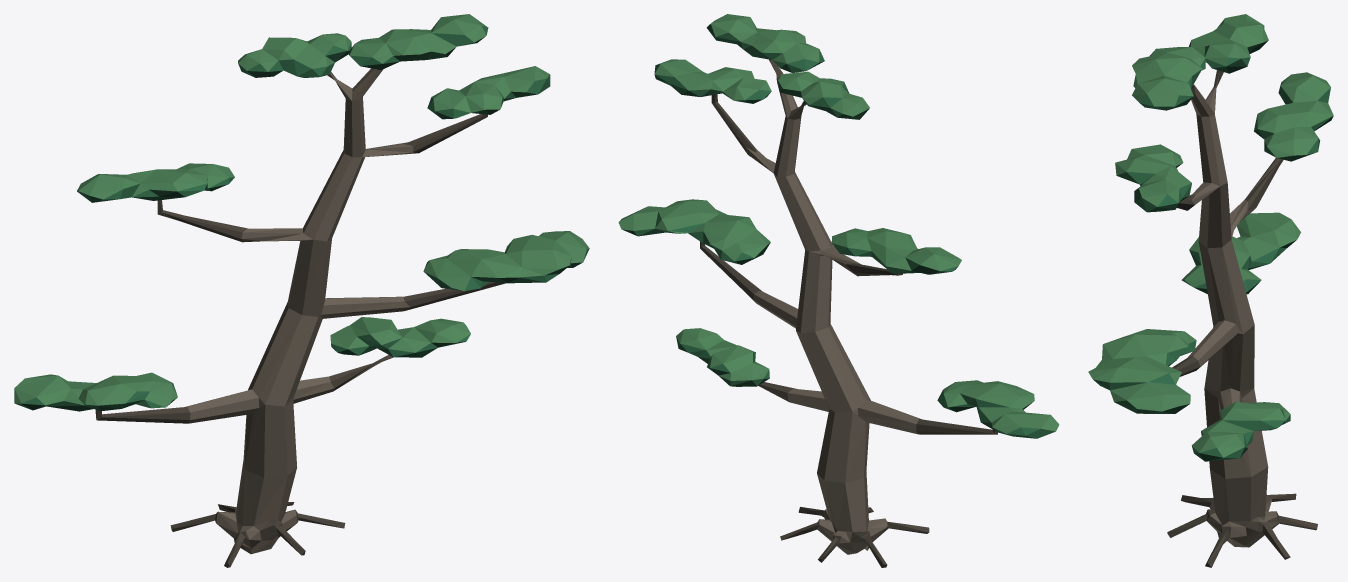
File: ancient-pine-829-lod2.glb
The picture shows the model from 3 angles, left to right: view 1: azimuth 30°, elevation 25°; view 2: azimuth 150°, elevation 25°; view 3: azimuth 270°, elevation 25°; orthographic projection. The views are drawn at different scales.
Visible parts, largest first — view 1: n12.006, n8.006, n9.006, n11.006, n10.006; view 2: n12.006, n8.006, n11.006, n9.006, n10.006; view 3: n12.006, n8.006, n11.006, n9.006, n10.006.
Part boxes in pixels (box(x1,y1,x2,y2)): n12.006: box(14, 14, 589, 407); n8.006: box(185, 68, 417, 554); n9.006: box(95, 72, 506, 567); n11.006: box(22, 26, 589, 408); n10.006: box(15, 36, 582, 411); n12.006: box(618, 14, 1059, 433); n8.006: box(745, 73, 921, 554); n11.006: box(634, 19, 1055, 438); n9.006: box(700, 59, 997, 567); n10.006: box(622, 28, 1035, 438); n12.006: box(1088, 14, 1333, 457); n8.006: box(1187, 71, 1279, 547); n11.006: box(1093, 26, 1332, 458); n9.006: box(1167, 70, 1317, 567); n10.006: box(1094, 40, 1333, 461).
Size of the model in its own units: 5.75 by 5.44 by 2.2.
